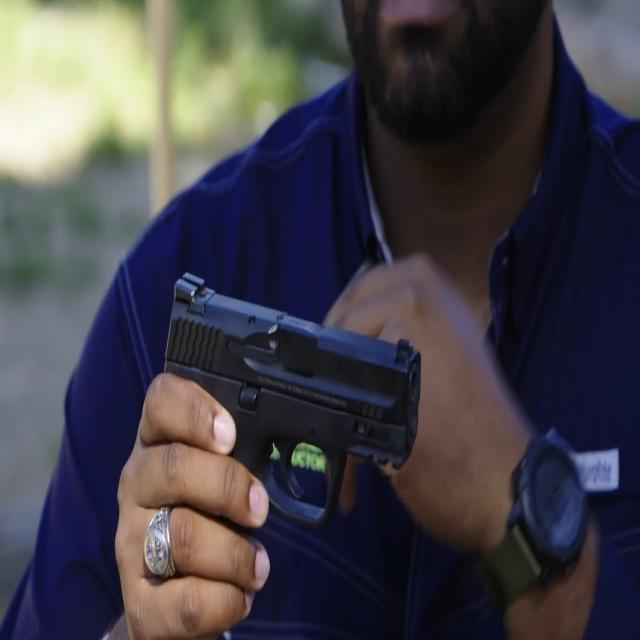handgun: (142, 252, 455, 604)
